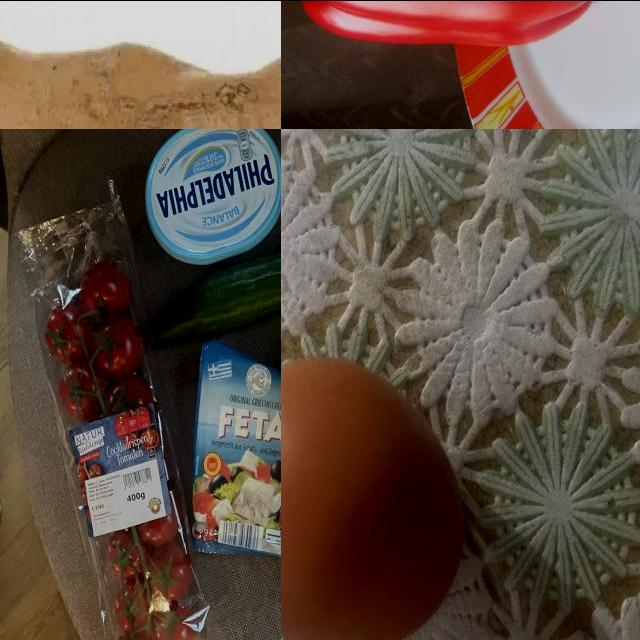bell_pepper: (282, 1, 612, 53)
cucumber: (118, 235, 282, 365)
egg: (282, 354, 465, 640)
potato: (1, 1, 282, 129)
tomato: (22, 234, 225, 640)
